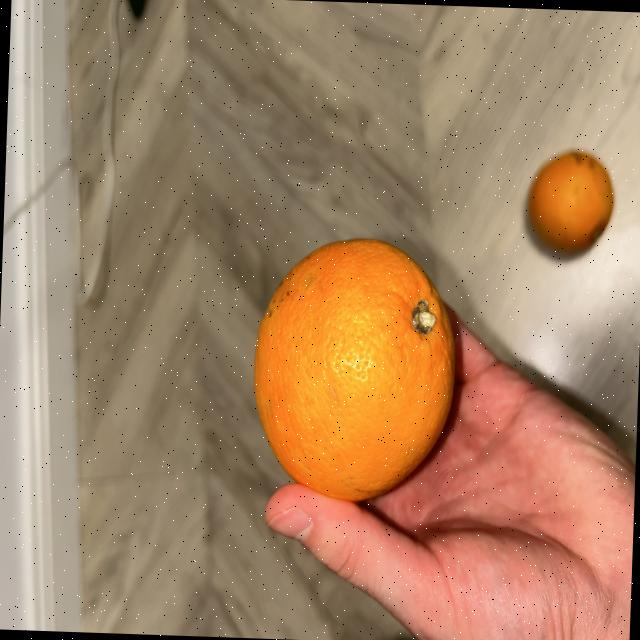orange: (255, 236, 461, 502), (526, 148, 616, 261)
